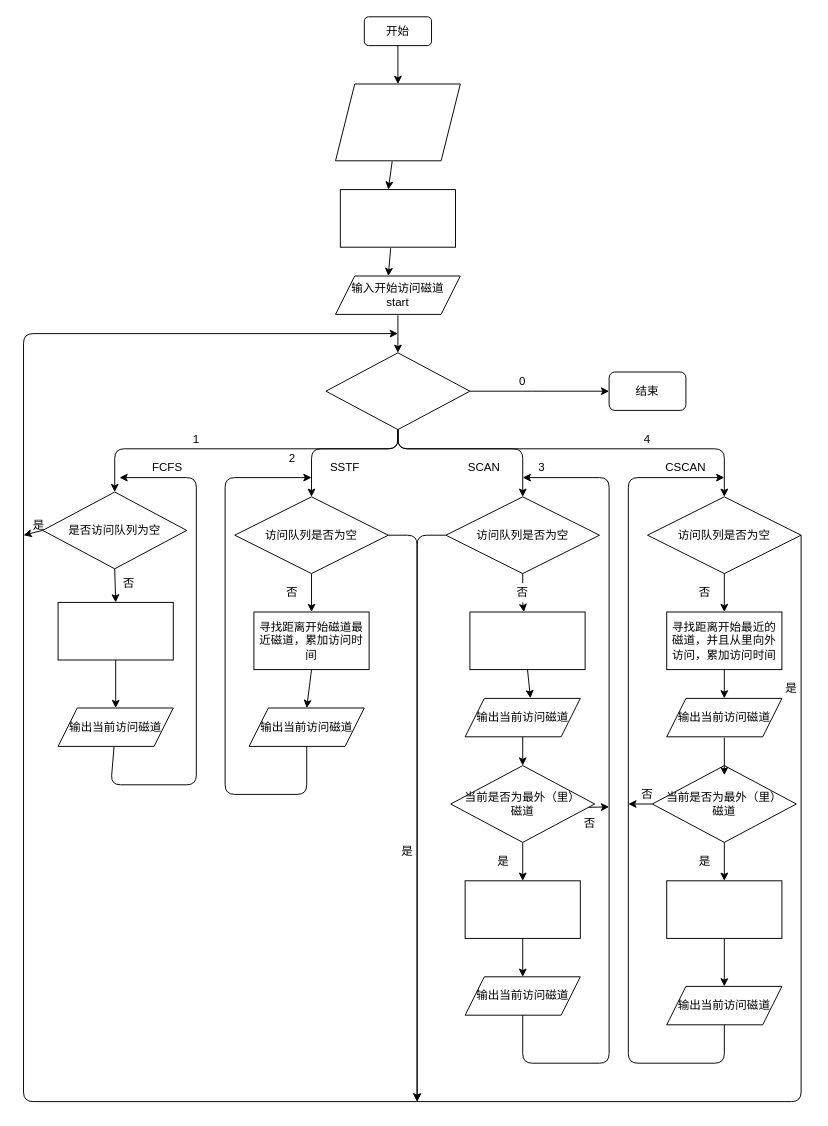
Some shapes in this 828 by 1126 pixel diagram are drawn without their labels. Here are the shapes that lost their labels. From the top down, the centre of each, then its label:
At point 397,122: "输入磁盘磁道 TrackNum 单位寻道时间 time".
At point 397,218: "随机生成访问顺序和个数".
At point 397,391: "选择访问方式".
At point 115,630: "访问下一个磁道 累加当前访问时间".
At point 527,640: "寻找距离开始最近的磁道，并且向该方向访问，累加访问时间".
At point 522,909: "反方向访问下一磁道".
At point 724,909: "磁头回到最里边，由里向外访问".
